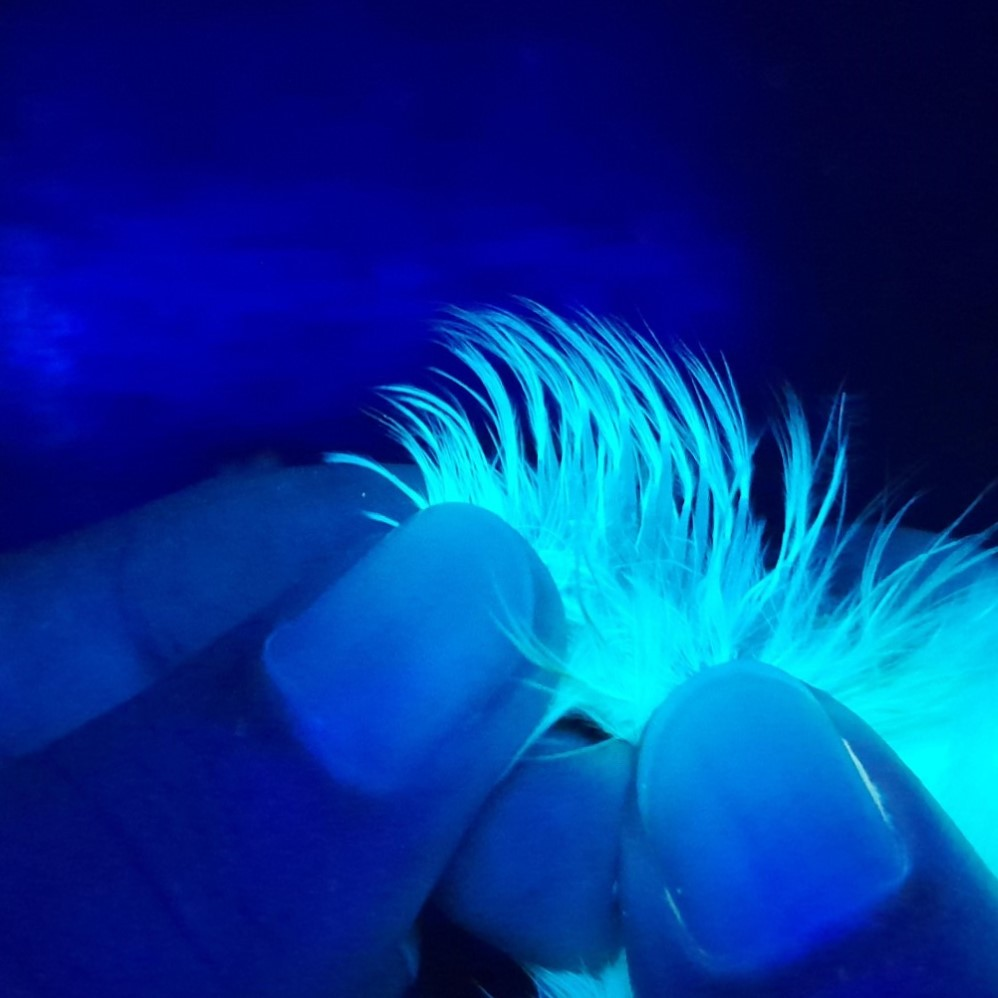female: (532, 399, 798, 685)
